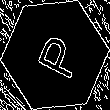P_NW: (27, 27, 83, 83)
